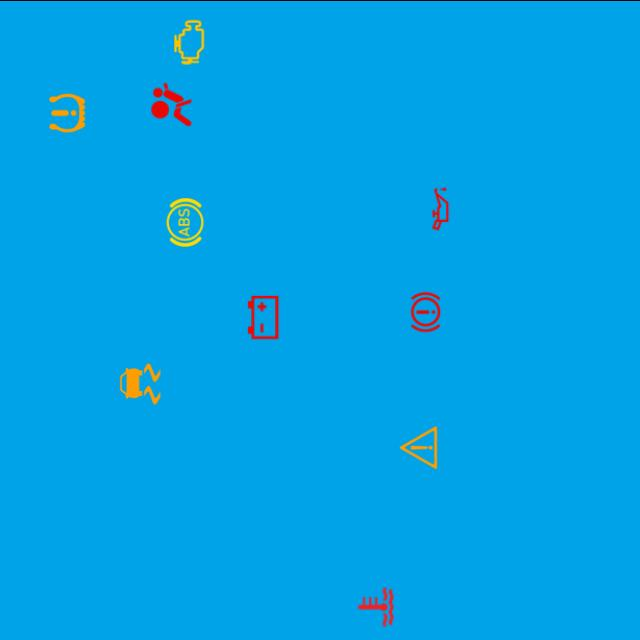Anti Lock Braking System: (158, 195, 212, 248)
Braking System Issue: (400, 284, 452, 338)
Charging System Issue: (237, 290, 290, 343)
Check Engine: (162, 14, 215, 68)
Electronic Stability Problem -ESP-: (114, 356, 166, 409)
Engine Overheating Warning Light: (350, 580, 402, 632)
Low Engine Oil Warning Light: (414, 182, 467, 234)
Low Tire Pressure Warning Light: (41, 85, 94, 138)
Master warning light: (392, 420, 445, 473)
SRS-Airbag: (145, 77, 198, 130)
